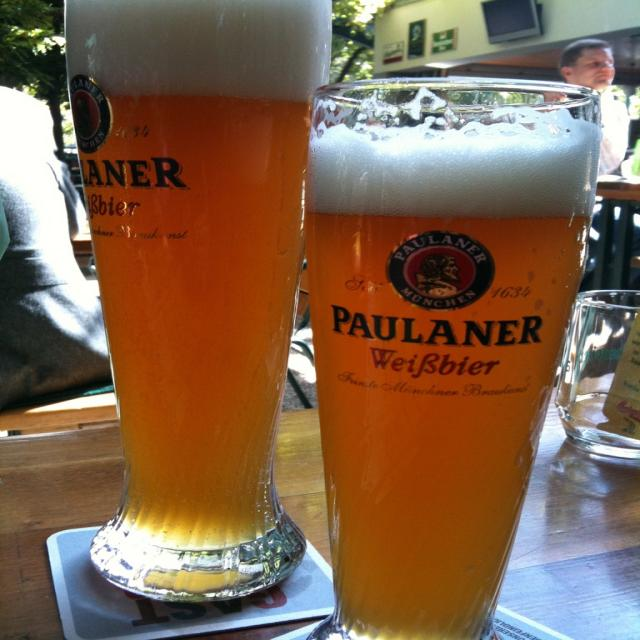paulaner: (386, 232, 498, 311), (68, 75, 114, 153)
